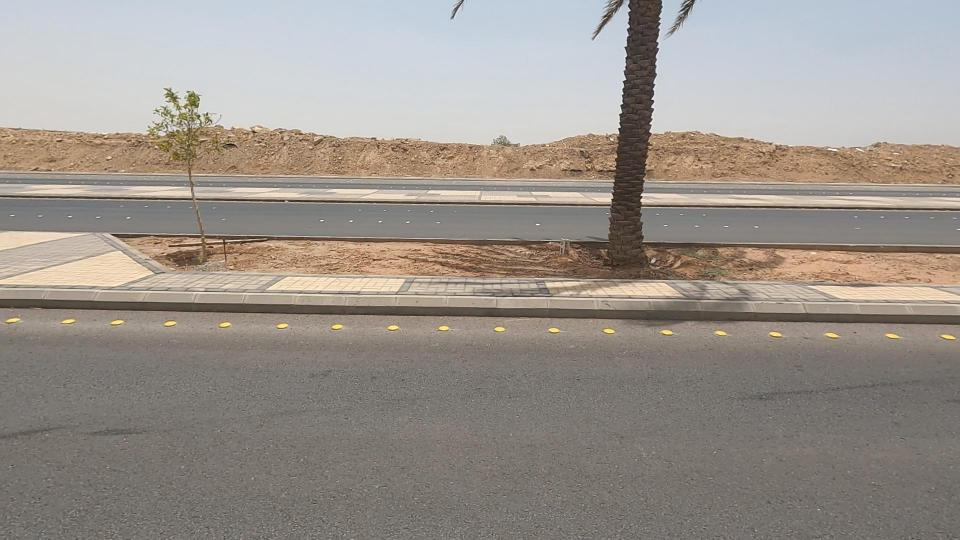CLUTTER_SIDEWALK: (86, 202, 673, 322), (565, 191, 960, 337)
